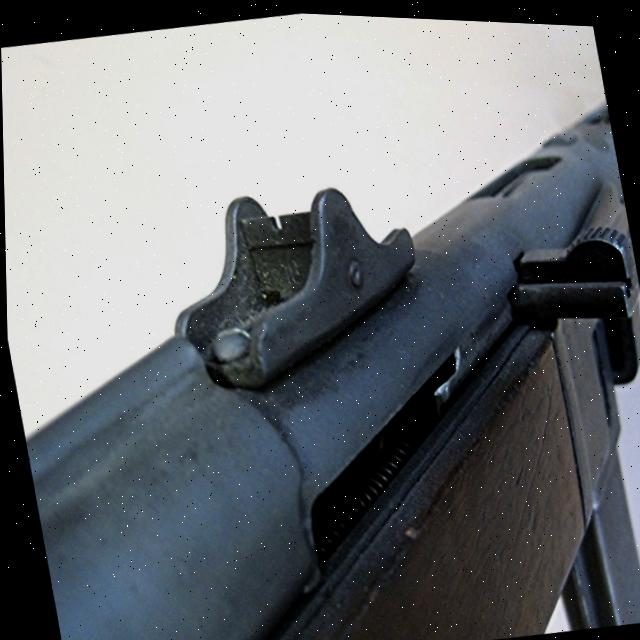firearm: (1, 64, 640, 640)
